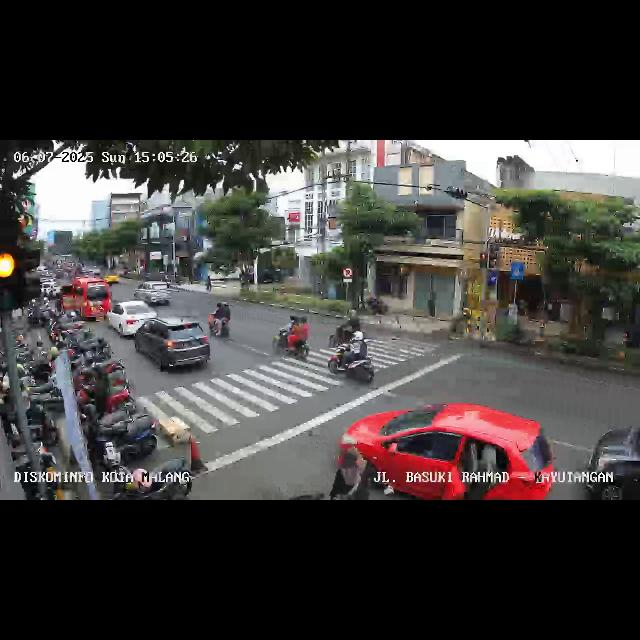car: (338, 400, 554, 500), (135, 314, 213, 374), (588, 416, 640, 499), (59, 278, 110, 324), (108, 300, 158, 338), (134, 280, 174, 310)
motorcycle: (326, 329, 378, 385), (272, 316, 312, 360), (330, 309, 360, 347), (209, 300, 233, 340)
person: (327, 448, 378, 500)
